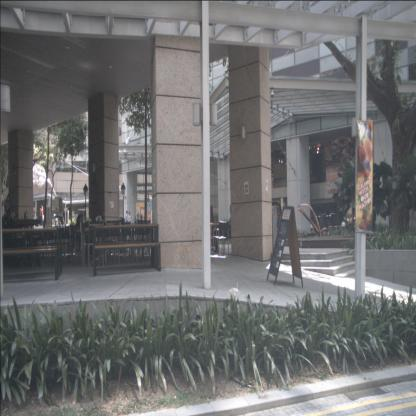human-pedestrian-adult: (212, 204, 235, 253), (72, 214, 84, 253), (40, 204, 44, 226), (125, 211, 129, 232), (128, 211, 131, 233)
